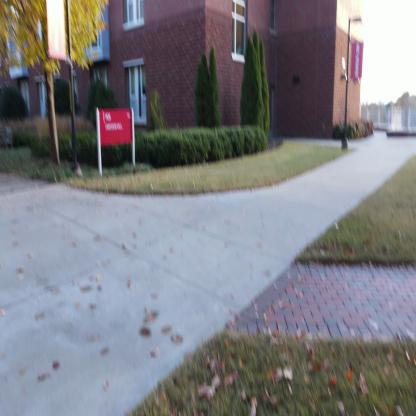Wolf Ridge: (5, 2, 370, 177)
